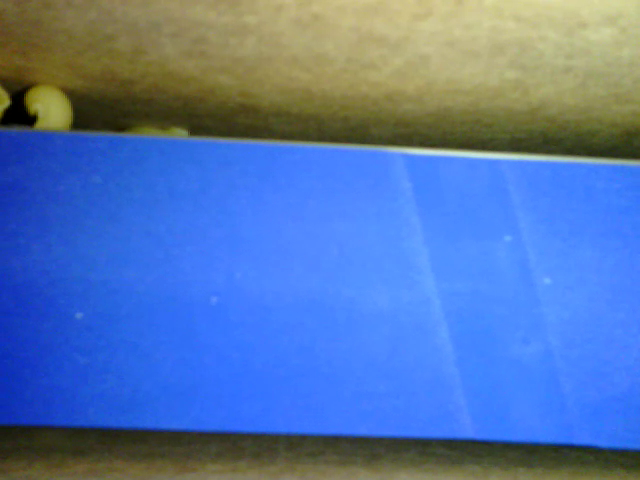shell: (21, 82, 79, 136)
